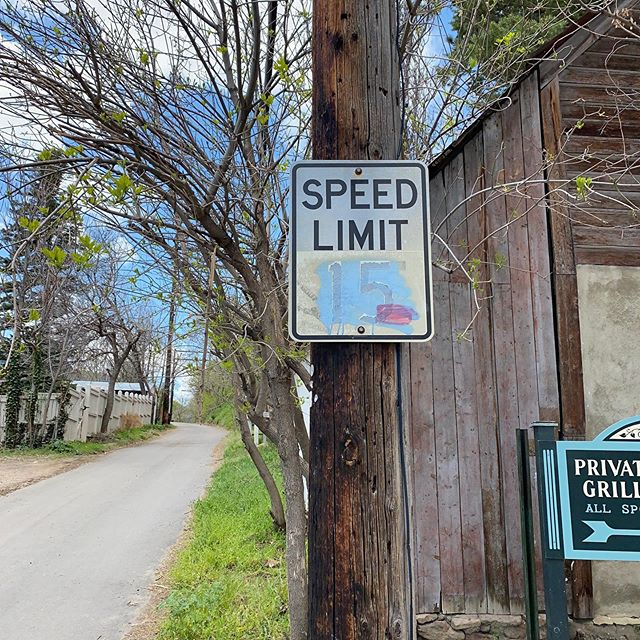sign: (284, 156, 440, 347)
street: (1, 415, 252, 640)
vegetation: (1, 1, 307, 416)
